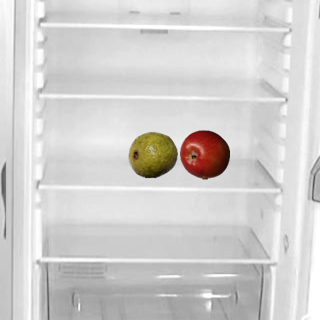Apple Braeburn: (179, 129, 229, 179)
Guava: (127, 129, 177, 179)
